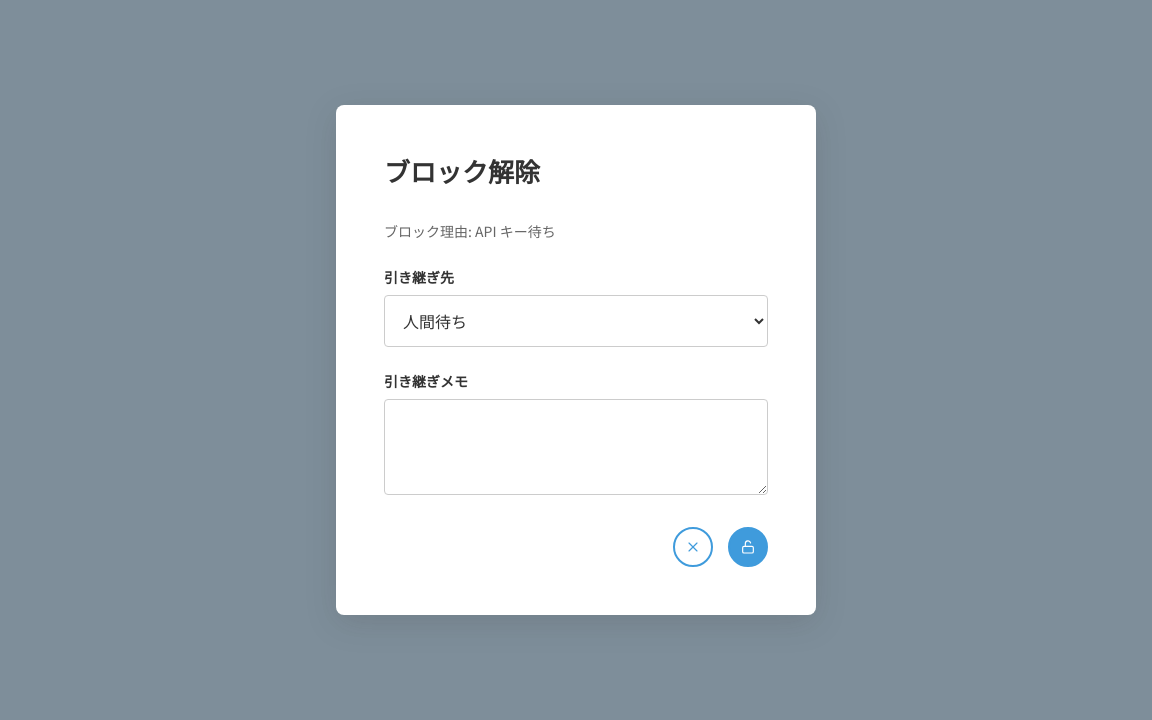
UnblockDialog › 引き継ぎメモが空で送信するとエラーを表示し、transitionTask を呼ばない
The width and height of the screenshot is (1152, 720).
Click the button named "解除" at (748, 547), box top-left (728, 527), bottom-right (768, 567)
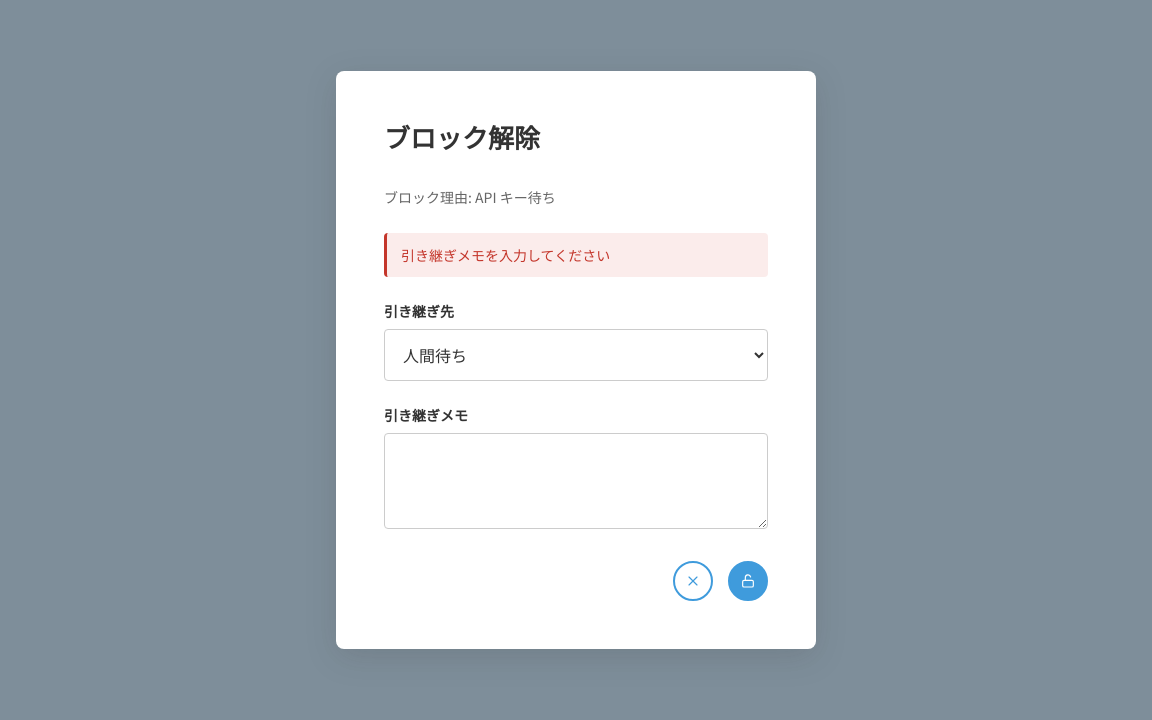
Check: the message "引き継ぎメモを入力してください" is shown, box top-left (384, 233), bottom-right (768, 277)
